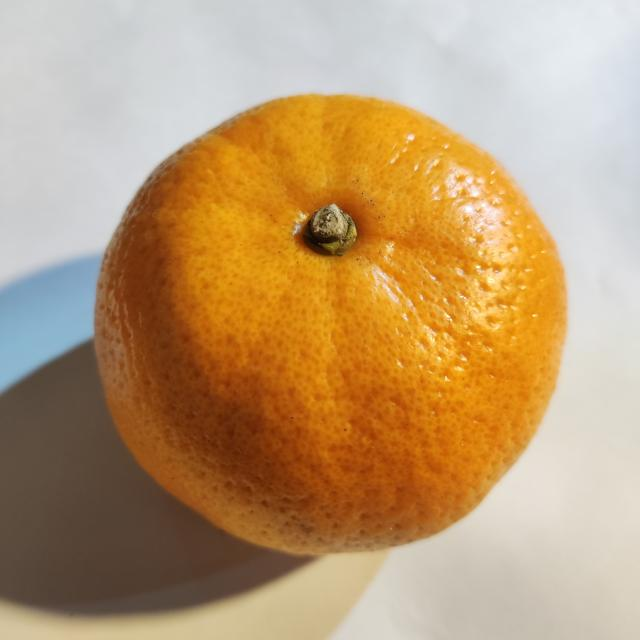orange: (96, 96, 565, 553)
